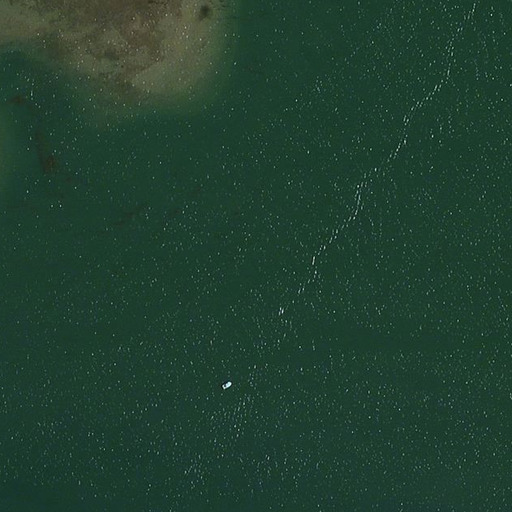ship: (218, 379, 234, 390)
